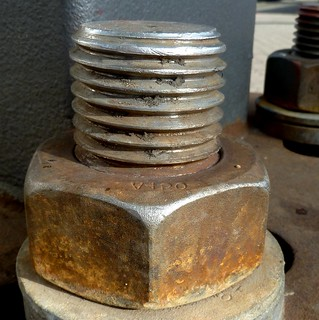Low: (26, 108, 273, 306)
